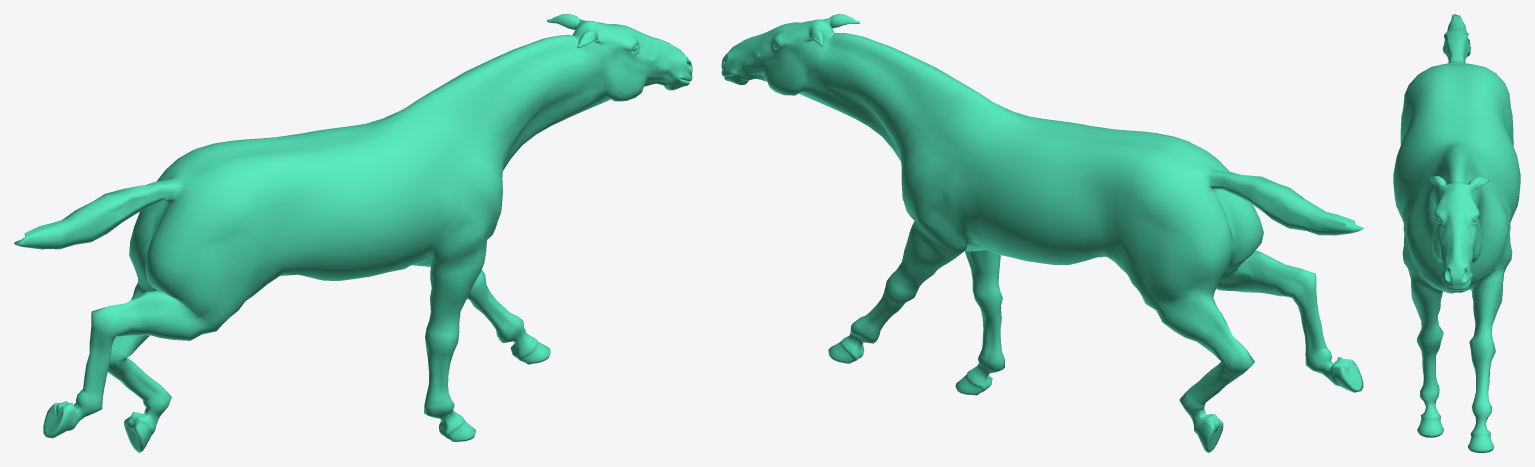
Rendered from horse_3.glb.
3 views of the same model, side by side, from view 1: azimuth 30°, elevation 25°; view 2: azimuth 150°, elevation 25°; view 3: azimuth 270°, elevation 25° (orthographic). The views are drawn at different scales.
Parts seen in each view (by area): view 1: polySurface10Shape; view 2: polySurface10Shape; view 3: polySurface10Shape.
Boxes of the visible parts, x1,y1,x2,y2 form: polySurface10Shape: (14,14,692,452); polySurface10Shape: (721,14,1363,452); polySurface10Shape: (1393,14,1520,452).
Size of what is drawn, in the model's own units: 33.1 by 17.21 by 6.42.
